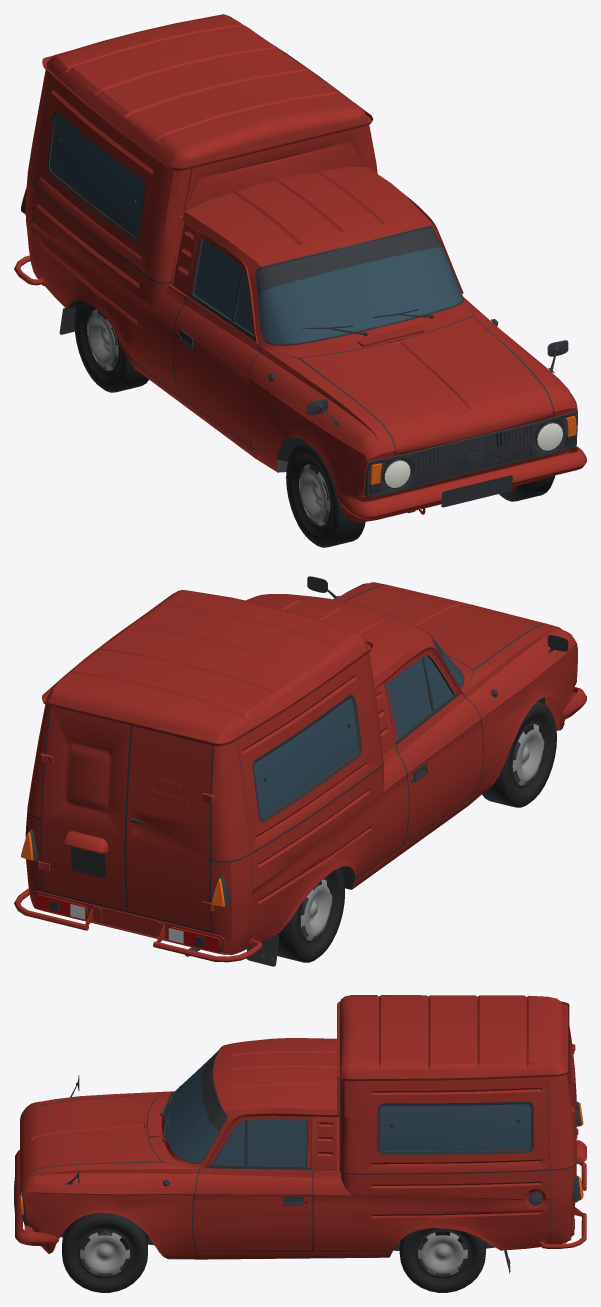
The model's file is izh2715.glb.
The picture shows the model from 3 angles, top to bottom: view 1: azimuth 30°, elevation 25°; view 2: azimuth 150°, elevation 25°; view 3: azimuth 270°, elevation 25°; orthographic projection. The views are drawn at different scales.
Visible parts, largest first — view 1: paint, glass, trim, wheel_fr, wheel_rr, wheel_fl; view 2: paint, glass, trim, wheel_fr, wheel_rr, taillights_right_6, taillights_left_6; view 3: paint, glass, trim, wheel_fl, wheel_rl.
Boxes of the visible parts, box(x1,y1,x2,y2) form: paint: box(14, 14, 586, 522); glass: box(49, 115, 463, 343); trim: box(21, 74, 577, 513); wheel_fr: box(286, 441, 365, 547); wheel_rr: box(74, 300, 148, 392); wheel_fl: box(499, 447, 555, 501); paint: box(14, 582, 586, 962); glass: box(254, 647, 463, 818); trim: box(27, 576, 576, 966); wheel_fr: box(482, 701, 556, 807); wheel_rr: box(277, 868, 344, 962); taillights_right_6: box(167, 926, 219, 952); taillights_left_6: box(35, 894, 86, 920); paint: box(15, 995, 586, 1259); glass: box(165, 1059, 530, 1166); trim: box(14, 1028, 581, 1273); wheel_fl: box(62, 1212, 147, 1292); wheel_rl: box(399, 1228, 485, 1292).
Bounding box in the file's own units: 1.97 × 2.05 × 4.71.
